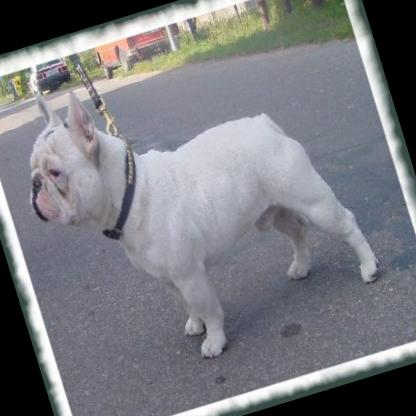French_bulldog: (0, 8, 392, 396)
